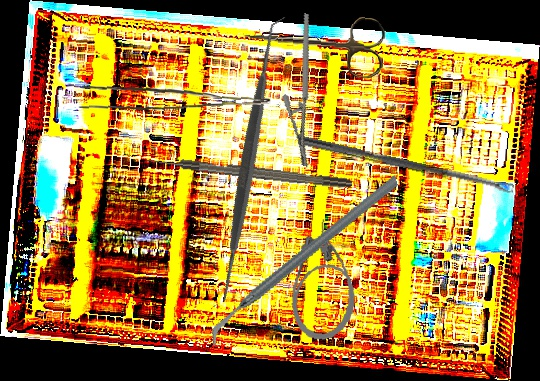Cannula: (286, 216, 365, 344)
Chopper: (181, 172, 428, 350)
Hook Surgical: (144, 153, 353, 191)
Iris Scissors: (242, 9, 386, 79)
Needle Holder: (255, 12, 357, 168)
Spatula Surgical: (104, 16, 394, 308)
Surgical Spoon: (297, 135, 515, 195)
Tissue Forceps: (77, 76, 272, 115)
